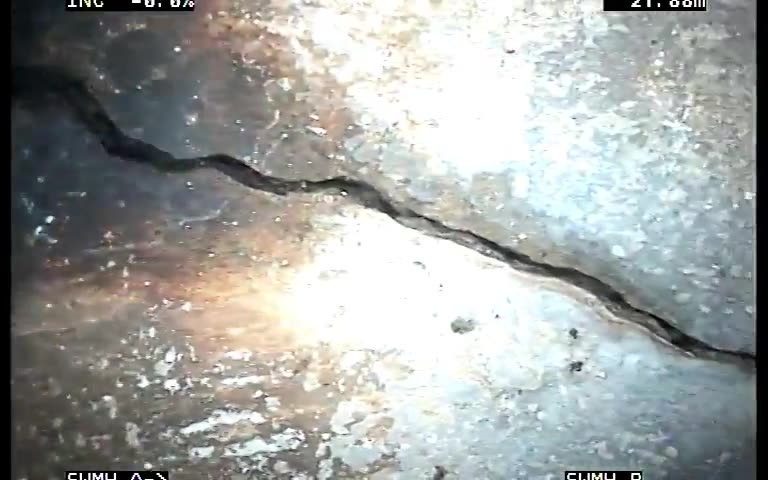Crack: (17, 30, 751, 404)
